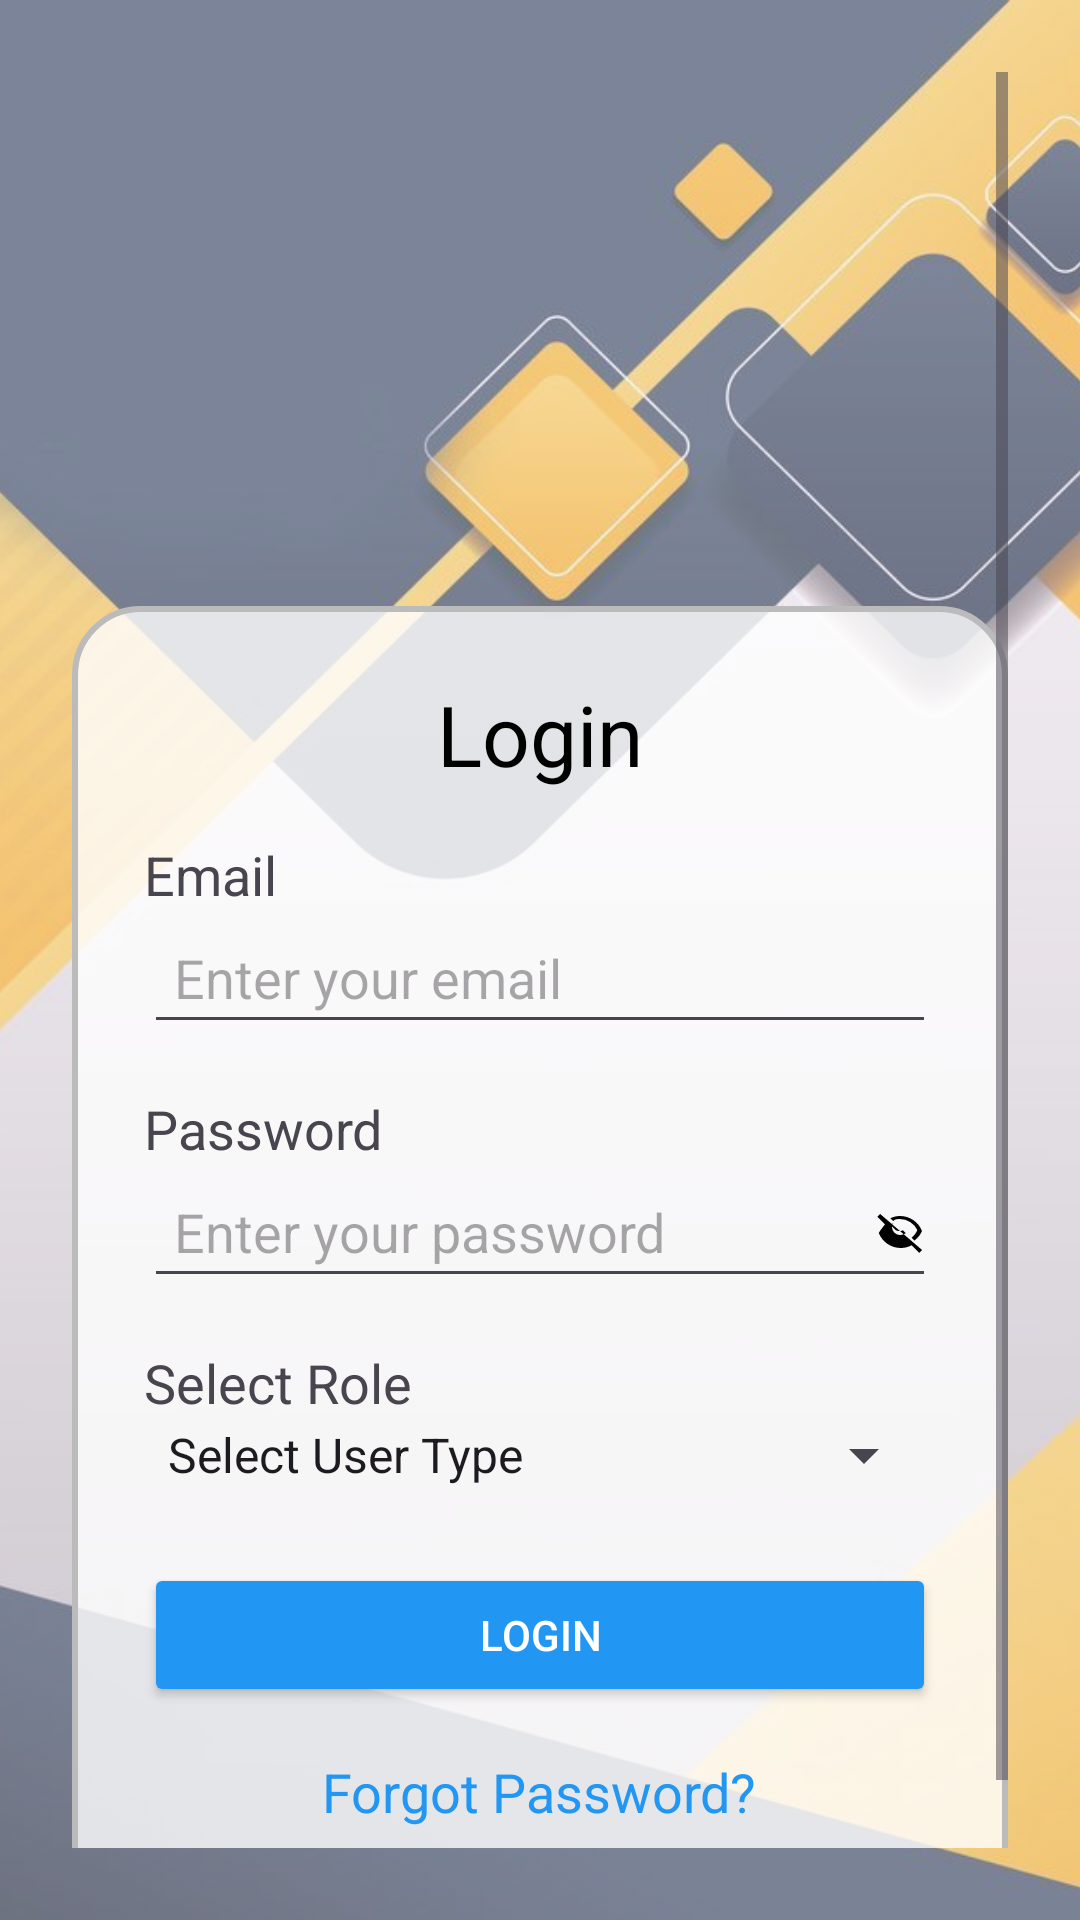

Icon bounding boxes for this 1080px×1920px phone screenshot, format (x1, y1, x2, y2):
eye off: (877, 1214, 922, 1253)
